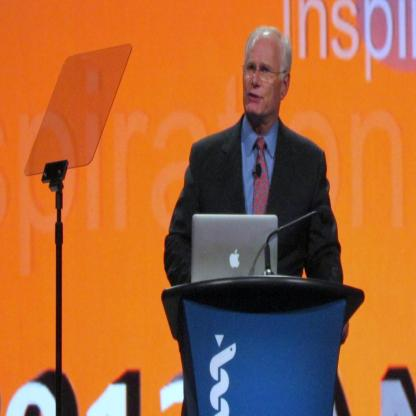board: (190, 211, 279, 282)
